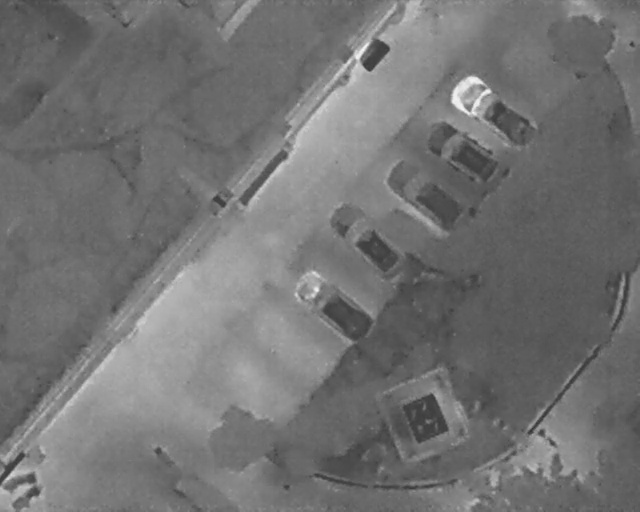Car: (439, 64, 547, 161), (378, 151, 476, 239), (284, 262, 380, 348), (320, 195, 411, 285), (416, 111, 513, 193)
